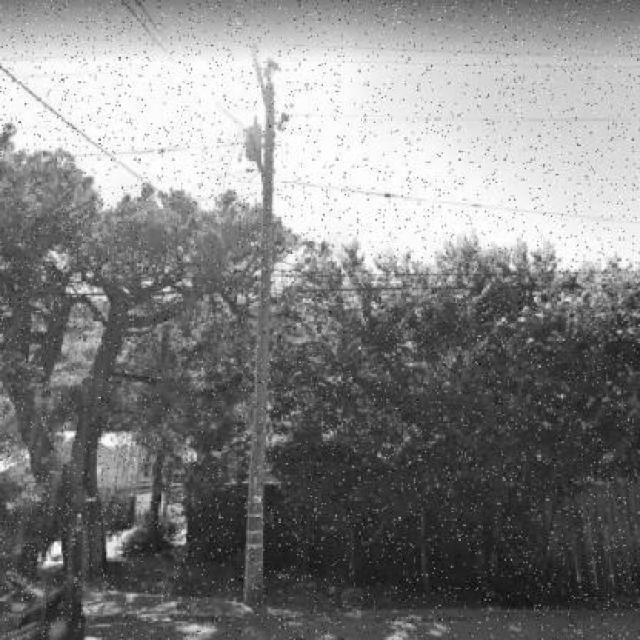pole: (215, 23, 299, 614)
